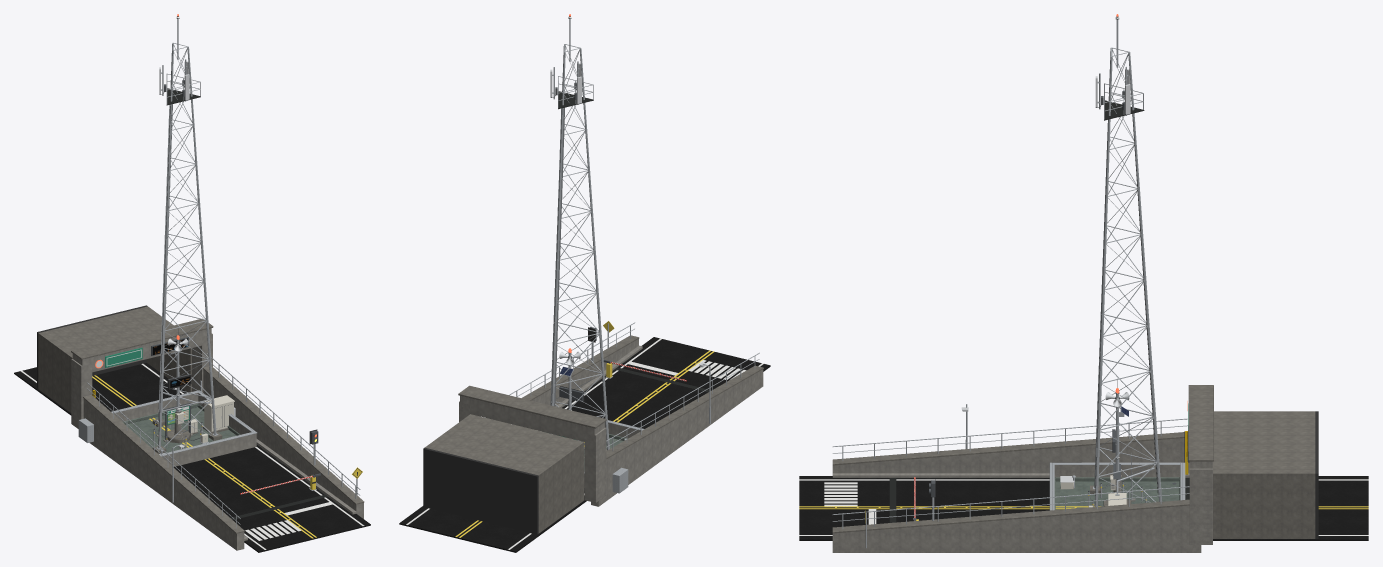
Rendered from wxtomo_assets.glb.
3 views of the same model, side by side, from view 1: azimuth 30°, elevation 25°; view 2: azimuth 150°, elevation 25°; view 3: azimuth 270°, elevation 25° (orthographic). The views are drawn at different scales.
Visible parts, largest first — view 1: Under_Road, Under_Walls, Under_Mouth, Under_Portal, Roof_Parapet, Tower_Members, Tower_Legs, Roof_Slab, Tower_Cabinet, Tower_Cables, Tower_Platform; view 2: Under_Mouth, Under_Road, Under_Walls, Under_Portal, Tower_Members, Tower_Legs, Tower_Cables, Roof_Parapet; view 3: Under_Walls, Under_Road, Under_Mouth, Under_Portal, Tower_Members, Tower_Legs, Roof_Parapet, Roof_Slab.
Boxes of the visible parts, x1,y1,x2,y2 form: Under_Road: (14, 363, 370, 552); Under_Walls: (83, 353, 364, 550); Under_Mouth: (37, 305, 191, 412); Under_Portal: (71, 318, 213, 428); Roof_Parapet: (111, 390, 257, 466); Tower_Members: (160, 43, 211, 447); Tower_Legs: (152, 42, 222, 454); Roof_Slab: (125, 407, 236, 453); Tower_Cabinet: (162, 392, 235, 432); Tower_Cables: (158, 104, 172, 412); Tower_Platform: (166, 73, 200, 105); Under_Mouth: (423, 414, 584, 534); Under_Road: (399, 337, 770, 552); Under_Walls: (488, 322, 763, 506); Under_Portal: (458, 385, 606, 502); Tower_Members: (551, 44, 605, 443); Tower_Legs: (549, 44, 609, 450); Tower_Cables: (552, 107, 564, 406); Roof_Parapet: (584, 420, 644, 487); Under_Walls: (832, 418, 1201, 552); Under_Road: (799, 473, 1368, 540); Under_Mouth: (1213, 411, 1318, 538); Under_Portal: (1187, 385, 1213, 544); Tower_Members: (1095, 47, 1157, 502); Tower_Legs: (1090, 48, 1162, 506); Roof_Parapet: (1049, 462, 1185, 510); Roof_Slab: (1055, 481, 1179, 509).
Size of the model in its own units: 12.05 by 33.12 by 34.
24 materials, 11 textured.
